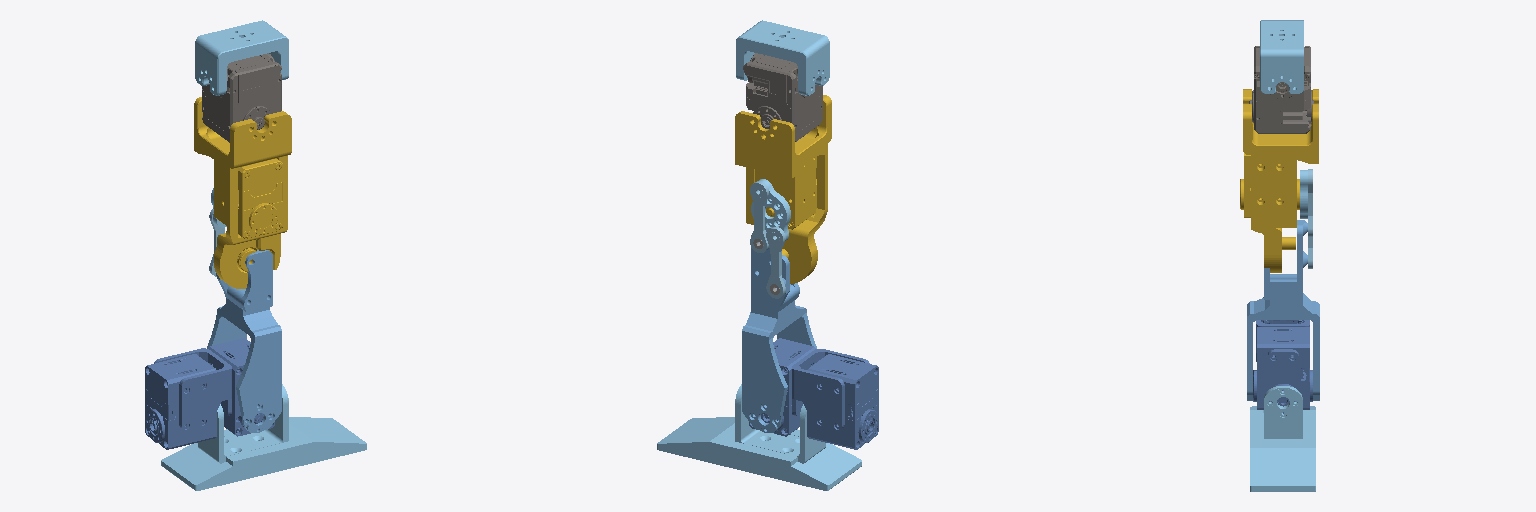
URDF robot description (right_leg_OP3):
<?xml version="1.0" ?><robot name="right_leg_OP3">  
  <link name="hip_yaw_link">    
    <visual>      
      <origin xyz="0 0 0" rpy="0 -0 0"/>      
      <geometry>        
        <mesh filename="package:///meshes/right_hip_yaw_link_visual.stl"/>        
      </geometry>      
      <material name="hip_yaw_link_material">        
        <color rgba="0.61568627450980395466 0.81176470588235294379 0.92941176470588238168 1.0"/>        
      </material>      
    </visual>    
    <collision>      
      <origin xyz="0 0 0" rpy="0 -0 0"/>      
      <geometry>        
        <mesh filename="package:///meshes/right_hip_yaw_link_collision.stl"/>        
      </geometry>      
    </collision>    
    <inertial>      
      <origin xyz="1.6124133946295534145e-19 5.1127973666334958827e-19 -0.0098919667346054462181" rpy="0 0 0"/>      
      <mass value="0.01799999999999999864"/>      
      <inertia ixx="2.6483505271519540317e-06" ixy="0" ixz="0" iyy="7.7055357996008251511e-06" iyz="0" izz="7.7736682806805358371e-06"/>      
    </inertial>    
  </link>  

  <link name="hip_roll_link">    
    <visual>      
      <origin xyz="0 0 0" rpy="0 -0 0"/>      
      <geometry>        
        <mesh filename="package:///meshes/right_hip_roll_link_visual.stl"/>        
      </geometry>      
      <material name="hip_roll_link_material">        
        <color rgba="0.51698661238356058423 0.5034781595109349972 0.49050589017722023844 1.0"/>        
      </material>      
    </visual>    
    <collision>      
      <origin xyz="0 0 0" rpy="0 -0 0"/>      
      <geometry>        
        <mesh filename="package:///meshes/right_hip_roll_link_collision.stl"/>        
      </geometry>      
    </collision>    
    <inertial>      
      <origin xyz="-0.011999849582182841798 -0.00049598090794352096312 -0.018504111838597715745" rpy="0 0 0"/>      
      <mass value="0.11059999999836234164"/>      
      <inertia ixx="2.2818802599018581112e-05" ixy="-4.6520143285862249191e-08" ixz="-4.6888548259042824099e-08" iyy="3.087163208233820107e-05" iyz="-5.7477343899720054167e-07" izz="3.08716664244684352e-05"/>      
    </inertial>    
  </link>  

  <link name="right_hip_pitch_link_xm430">    
    <visual>      
      <origin xyz="0 0 0" rpy="0 -0 0"/>      
      <geometry>        
        <mesh filename="package:///meshes/right_hip_pitch_link_xm430_visual.stl"/>        
      </geometry>      
      <material name="right_hip_pitch_link_xm430_material">        
        <color rgba="0.87072221357329571134 0.72641010956094276274 0.24785169615220697947 1.0"/>        
      </material>      
    </visual>    
    <collision>      
      <origin xyz="0 0 0" rpy="0 -0 0"/>      
      <geometry>        
        <mesh filename="package:///meshes/right_hip_pitch_link_xm430_collision.stl"/>        
      </geometry>      
    </collision>    
    <inertial>      
      <origin xyz="0.0007571588137130364762 -0.050714784778880764304 -0.012656153620121854755" rpy="0 0 0"/>      
      <mass value="0.11480090135030567022"/>      
      <inertia ixx="6.6072786489384158193e-05" ixy="4.601068290601230276e-07" ixz="1.8171597853303241767e-07" iyy="2.3633665181581449356e-05" iyz="1.4125296519935310156e-06" izz="6.2221763055416812009e-05"/>      
    </inertial>    
  </link>  

  <link name="right_calf_link">    
    <visual>      
      <origin xyz="0 0 0" rpy="0 -0 0"/>      
      <geometry>        
        <mesh filename="package:///meshes/right_calf_link_visual.stl"/>        
      </geometry>      
      <material name="right_calf_link_material">        
        <color rgba="0.522707147375079062 0.70740037950664136357 0.87533206831119547697 1.0"/>        
      </material>      
    </visual>    
    <collision>      
      <origin xyz="0 0 0" rpy="0 -0 0"/>      
      <geometry>        
        <mesh filename="package:///meshes/right_calf_link_collision.stl"/>        
      </geometry>      
    </collision>    
    <inertial>      
      <origin xyz="-0.0044698992063320081708 0.040537655000345548806 -0.0094043191617598255461" rpy="0 0 0"/>      
      <mass value="0.03099999999999998937"/>      
      <inertia ixx="3.2349006752264496763e-05" ixy="-1.4910956274418425843e-06" ixz="1.9651815973590485263e-07" iyy="7.718339396509856705e-06" iyz="6.2686077155121111805e-07" izz="2.7323441483284174278e-05"/>      
    </inertial>    
  </link>  

  <link name="bearing_683">    
    <visual>      
      <origin xyz="0 0 0" rpy="0 -0 0"/>      
      <geometry>        
        <mesh filename="package:///meshes/right_bearing_683_visual.stl"/>        
      </geometry>      
      <material name="bearing_683_material">        
        <color rgba="0.64705882352941179736 0.64705882352941179736 0.64705882352941179736 1.0"/>        
      </material>      
    </visual>    
    <collision>      
      <origin xyz="0 0 0" rpy="0 -0 0"/>      
      <geometry>        
        <mesh filename="package:///meshes/right_bearing_683_collision.stl"/>        
      </geometry>      
    </collision>    
    <inertial>      
      <origin xyz="9.7468268094076349384e-19 2.4186774283157871762e-19 -0.0015499999999999982108" rpy="0 0 0"/>      
      <mass value="0.00048694686130641793437"/>      
      <inertia ixx="2.1551456503319887385e-09" ixy="1.1974543606876073238e-27" ixz="2.5960211429906896931e-40" iyy="2.1551456503319883249e-09" iyz="-1.0536891599728111288e-37" izz="3.5303647444715305817e-09"/>      
    </inertial>    
  </link>  

  <joint name="right_knee_front_rev_2" type="revolute">    
    <origin xyz="-0.0057402514854764195157 -0.013858192987669049057 -0.026200000000000209233" rpy="-4.792276793618950313e-15 -7.4425542615262678023e-15 3.1386680923234981933"/>    
    <parent link="right_calf_link"/>    
    <child link="bearing_683"/>    
    <axis xyz="0 0 1"/>    
    <limit effort="1" velocity="20" lower="-6.283185307179586232" upper="6.283185307179586232"/>    
    <joint_properties friction="0.0"/>    
  </joint>  

  <link name="bearing_683_2">    
    <visual>      
      <origin xyz="0 0 0" rpy="0 -0 0"/>      
      <geometry>        
        <mesh filename="package:///meshes/right_bearing_683_2_visual.stl"/>        
      </geometry>      
      <material name="bearing_683_2_material">        
        <color rgba="0.64705882352941179736 0.64705882352941179736 0.64705882352941179736 1.0"/>        
      </material>      
    </visual>    
    <collision>      
      <origin xyz="0 0 0" rpy="0 -0 0"/>      
      <geometry>        
        <mesh filename="package:///meshes/right_bearing_683_2_collision.stl"/>        
      </geometry>      
    </collision>    
    <inertial>      
      <origin xyz="1.0732094295234320308e-19 -2.7513707872797298537e-17 -0.0015499999999999977771" rpy="0 0 0"/>      
      <mass value="0.00048694686130641793437"/>      
      <inertia ixx="2.1551456503319887385e-09" ixy="5.5200346050157064306e-28" ixz="-6.8631381869404202707e-38" iyy="2.1551456503319883249e-09" iyz="-3.8635622103068727551e-38" izz="3.5303647444715322361e-09"/>      
    </inertial>    
  </link>  

  <joint name="right_knee_back_rev_2" type="revolute">    
    <origin xyz="0.005740251485476185328 0.013858192987669409879 -0.026200000000000056577" rpy="-6.2585939741374333299e-15 -1.0479387378889103051e-16 3.1385914305327817786"/>    
    <parent link="right_calf_link"/>    
    <child link="bearing_683_2"/>    
    <axis xyz="0 0 1"/>    
    <limit effort="1" velocity="20" lower="-6.283185307179586232" upper="6.283185307179586232"/>    
    <joint_properties friction="0.0"/>    
  </joint>  

  <link name="ank_pitch_link">    
    <visual>      
      <origin xyz="0 0 0" rpy="0 -0 0"/>      
      <geometry>        
        <mesh filename="package:///meshes/right_ank_pitch_link_visual.stl"/>        
      </geometry>      
      <material name="ank_pitch_link_material">        
        <color rgba="0.42838831031765539636 0.55128652208657225042 0.74128917770314906033 1.0"/>        
      </material>      
    </visual>    
    <collision>      
      <origin xyz="0 0 0" rpy="0 -0 0"/>      
      <geometry>        
        <mesh filename="package:///meshes/right_ank_pitch_link_collision.stl"/>        
      </geometry>      
    </collision>    
    <inertial>      
      <origin xyz="-0.012383885521091249002 0.01966360431131712605 0.018862066178909241837" rpy="0 0 0"/>      
      <mass value="0.15976376693924948524"/>      
      <inertia ixx="9.8184006245882968493e-05" ixy="1.0738445982480588818e-06" ixz="4.3555854012722967078e-08" iyy="4.2237181854197494908e-05" iyz="-4.1061630166170852654e-07" izz="0.00011168324060676464973"/>      
    </inertial>    
  </link>  

  <link name="ank_roll_link">    
    <visual>      
      <origin xyz="0 0 0" rpy="0 -0 0"/>      
      <geometry>        
        <mesh filename="package:///meshes/right_ank_roll_link_visual.stl"/>        
      </geometry>      
      <material name="ank_roll_link_material">        
        <color rgba="0.61568627450980395466 0.81176470588235305481 0.9294117647058824927 1.0"/>        
      </material>      
    </visual>    
    <collision>      
      <origin xyz="0 0 0" rpy="0 -0 0"/>      
      <geometry>        
        <mesh filename="package:///meshes/right_ank_roll_link_collision.stl"/>        
      </geometry>      
    </collision>    
    <inertial>      
      <origin xyz="-0.026981230777523942943 2.0010897630468602634e-12 -0.033733185742545759855" rpy="0 0 0"/>      
      <mass value="0.042599999999999998979"/>      
      <inertia ixx="3.7270477448017821941e-05" ixy="5.541641696149723301e-16" ixz="-2.3925937758709770282e-06" iyy="3.7621548160199975075e-05" iyz="5.0816858811652129512e-12" izz="1.0126192914158457895e-05"/>      
    </inertial>    
  </link>  

  <joint name="right_ank_roll" type="revolute">    
    <origin xyz="-2.2204460492503130808e-16 0.02275000000000106104 0.019000000000002178341" rpy="1.5707963267949220931 -3.6775852931107809278e-14 3.1415926535897313876"/>    
    <parent link="ank_pitch_link"/>    
    <child link="ank_roll_link"/>    
    <axis xyz="0 0 1"/>    
    <limit effort="1" velocity="20" lower="-1.570796326794896558" upper="1.570796326794896558"/>    
    <joint_properties friction="0.0"/>    
  </joint>  

  <joint name="right_ank_pitch" type="revolute">    
    <origin xyz="0.00049999999999975335441 0.099999999999999561462 0.0086000000000000676598" rpy="3.1415926535897877869 -1.4928027344634987948e-14 1.5707963267948785724"/>    
    <parent link="right_calf_link"/>    
    <child link="ank_pitch_link"/>    
    <axis xyz="0 0 1"/>    
    <limit effort="1" velocity="20" lower="-0.785398163397448279" upper="1.8325957145940461324"/>    
    <joint_properties friction="0.0"/>    
  </joint>  

  <joint name="right_knee_pitch" type="revolute">    
    <origin xyz="-1.4425300025281195314e-16 -0.095999999999999197087 -0.009200000000000072703" rpy="-4.4507648457556451305e-14 -3.3964226209539856629e-15 3.1415926535897926719"/>    
    <parent link="right_hip_pitch_link_xm430"/>    
    <child link="right_calf_link"/>    
    <axis xyz="0 0 1"/>    
    <limit effort="1" velocity="20" lower="-1.9198621771937625091" upper="0"/>    
    <joint_properties friction="0.0"/>    
  </joint>  

  <link name="xm430_plate">    
    <visual>      
      <origin xyz="0 0 0" rpy="0 -0 0"/>      
      <geometry>        
        <mesh filename="package:///meshes/right_xm430_plate_visual.stl"/>        
      </geometry>      
      <material name="xm430_plate_material">        
        <color rgba="0.61568627450980395466 0.81176470588235294379 0.92941176470588227065 1.0"/>        
      </material>      
    </visual>    
    <collision>      
      <origin xyz="0 0 0" rpy="0 -0 0"/>      
      <geometry>        
        <mesh filename="package:///meshes/right_xm430_plate_collision.stl"/>        
      </geometry>      
    </collision>    
    <inertial>      
      <origin xyz="7.9779646097136977501e-19 3.8813091667873471619e-18 -0.0024039046431217937771" rpy="0 0 0"/>      
      <mass value="0.0026999999999999997093"/>      
      <inertia ixx="2.6720434385876693618e-07" ixy="-6.8936588702566387474e-08" ixz="-6.4147267181799705475e-36" iyy="1.2933116645363405536e-07" iyz="6.7767426916190795618e-37" izz="3.8533537562751439267e-07"/>      
    </inertial>    
  </link>  

  <link name="knee_rod">    
    <visual>      
      <origin xyz="0 0 0" rpy="0 -0 0"/>      
      <geometry>        
        <mesh filename="package:///meshes/right_knee_rod_visual.stl"/>        
      </geometry>      
      <material name="knee_rod_material">        
        <color rgba="0.62051618944235198416 0.78640765248647581664 0.88594253031295000511 1.0"/>        
      </material>      
    </visual>    
    <collision>      
      <origin xyz="0 0 0" rpy="0 -0 0"/>      
      <geometry>        
        <mesh filename="package:///meshes/right_knee_rod_collision.stl"/>        
      </geometry>      
    </collision>    
    <inertial>      
      <origin xyz="0.014594547782157867369 -4.1542690670034378305e-05 -0.0015996227373180807018" rpy="0 0 0"/>      
      <mass value="0.0031629468613064183613"/>      
      <inertia ixx="2.589611618064318261e-08" ixy="3.4895756842141165546e-10" ixz="4.1682975930458834178e-10" iyy="6.0153251859997735439e-07" iyz="-1.1864862087162977201e-12" izz="6.226685705027195638e-07"/>      
    </inertial>    
  </link>  

  <joint name="right_knee_front_rev_1" type="revolute">    
    <origin xyz="-0.0057402514854763501267 -0.013858192987669284979 -0.0049999999999999957673" rpy="-5.0313204613631514412e-15 -1.1212819345950018642e-16 1.5678717655286047439"/>    
    <parent link="xm430_plate"/>    
    <child link="knee_rod"/>    
    <axis xyz="0 0 1"/>    
    <limit effort="1" velocity="20" lower="-6.283185307179586232" upper="6.283185307179586232"/>    
    <joint_properties friction="0.0"/>    
  </joint>  

  <link name="knee_rod_2">    
    <visual>      
      <origin xyz="0 0 0" rpy="0 -0 0"/>      
      <geometry>        
        <mesh filename="package:///meshes/right_knee_rod_2_visual.stl"/>        
      </geometry>      
      <material name="knee_rod_2_material">        
        <color rgba="0.62051618944235198416 0.78640765248647581664 0.88594253031295000511 1.0"/>        
      </material>      
    </visual>    
    <collision>      
      <origin xyz="0 0 0" rpy="0 -0 0"/>      
      <geometry>        
        <mesh filename="package:///meshes/right_knee_rod_2_collision.stl"/>        
      </geometry>      
    </collision>    
    <inertial>      
      <origin xyz="0.014594550881123264166 -3.9305021098133457514e-05 -0.0015996227373180275759" rpy="0 0 0"/>      
      <mass value="0.0031629468613064183613"/>      
      <inertia ixx="2.5896012056594737581e-08" ixy="3.3016126977403441595e-10" ixz="4.1682984780892858046e-10" iyy="6.0153257066243997601e-07" iyz="-1.1225769169763295707e-12" izz="6.2266851844113933875e-07"/>      
    </inertial>    
  </link>  

  <joint name="right_knee_back_rev_1" type="revolute">    
    <origin xyz="0.0057402514854763535962 0.013858192987669271101 -0.0050000000000000061756" rpy="-1.919569185352210123e-15 -1.6455897748865722783e-15 1.5677951037378847765"/>    
    <parent link="xm430_plate"/>    
    <child link="knee_rod_2"/>    
    <axis xyz="0 0 1"/>    
    <limit effort="1" velocity="20" lower="-6.283185307179586232" upper="6.283185307179586232"/>    
    <joint_properties friction="0.0"/>    
  </joint>  

  <joint name="right_knee_act" type="revolute">    
    <origin xyz="0.00014999999999996659343 -0.061499999999998652966 -0.030399999999999018085" rpy="-3.9472982174462490613e-14 8.7088539502980777788e-16 3.141592653589793116"/>    
    <parent link="right_hip_pitch_link_xm430"/>    
    <child link="xm430_plate"/>    
    <axis xyz="0 0 1"/>    
    <limit effort="1" velocity="20" lower="-1.9198621771937625091" upper="0"/>    
    <joint_properties friction="0.0"/>    
  </joint>  

  <joint name="right_hip_pitch" type="revolute">    
    <origin xyz="-0.024000000716143346513 -0.019000000152445729179 -0.019000000152453181551" rpy="1.5707963267950966202 1.5707963267947326891 0"/>    
    <parent link="hip_roll_link"/>    
    <child link="right_hip_pitch_link_xm430"/>    
    <axis xyz="0 0 1"/>    
    <limit effort="1" velocity="20" lower="-1.570796326794896558" upper="1.570796326794896558"/>    
    <joint_properties friction="0.0"/>    
  </joint>  

  <joint name="right_hip_roll" type="revolute">    
    <origin xyz="-0.018999999999999916261 3.1092928099478391072e-16 -0.025999999999999925948" rpy="3.0774993384580180772e-19 -1.5707963267948932273 0"/>    
    <parent link="hip_yaw_link"/>    
    <child link="hip_roll_link"/>    
    <axis xyz="0 0 1"/>    
    <limit effort="1" velocity="20" lower="-0.785398163397448279" upper="0.785398163397448279"/>    
    <joint_properties friction="0.0"/>    
  </joint>  


</robot>

--- Facts derived from the render (not from the file) ---
The picture shows the robot from 3 angles, left to right: view 1: azimuth 30°, elevation 25°; view 2: azimuth 150°, elevation 25°; view 3: azimuth 270°, elevation 25°; orthographic projection.
Robot: right_leg_OP3 — 11 links, 10 joints (10 revolute); root link hip_yaw_link; default pose: all joints at 0.
Links seen in each view (by area): view 1: right_hip_pitch_link_xm430, ank_pitch_link, ank_roll_link, right_calf_link, hip_roll_link, hip_yaw_link; view 2: right_hip_pitch_link_xm430, ank_pitch_link, ank_roll_link, right_calf_link, hip_roll_link, hip_yaw_link, knee_rod_2, knee_rod, xm430_plate; view 3: right_hip_pitch_link_xm430, ank_roll_link, ank_pitch_link, right_calf_link, hip_roll_link, hip_yaw_link.
Link boxes in pixels (x1,y1,x2,y2): right_hip_pitch_link_xm430: (194,97,291,288); ank_pitch_link: (145,338,274,449); ank_roll_link: (161,384,366,490); right_calf_link: (207,250,281,432); hip_roll_link: (202,53,281,142); hip_yaw_link: (195,20,288,95); right_hip_pitch_link_xm430: (735,95,831,283); ank_pitch_link: (749,338,878,449); ank_roll_link: (657,384,861,490); right_calf_link: (742,232,816,432); hip_roll_link: (743,53,822,141); hip_yaw_link: (736,20,829,95); knee_rod_2: (766,227,785,298); knee_rod: (750,181,768,252); xm430_plate: (751,179,790,240); right_hip_pitch_link_xm430: (1240,89,1318,272); ank_roll_link: (1250,386,1315,491); ank_pitch_link: (1253,297,1312,413); right_calf_link: (1247,220,1319,400); hip_roll_link: (1249,46,1313,133); hip_yaw_link: (1260,20,1303,93).
Size in the robot's own frame: 0.138 by 0.0502 by 0.285 metres.
Meshes: 11 distinct files referenced, 11 mesh visuals loaded (11 binary STL).